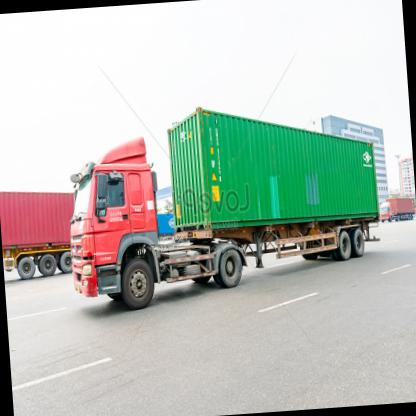truck: (62, 148, 166, 318)
